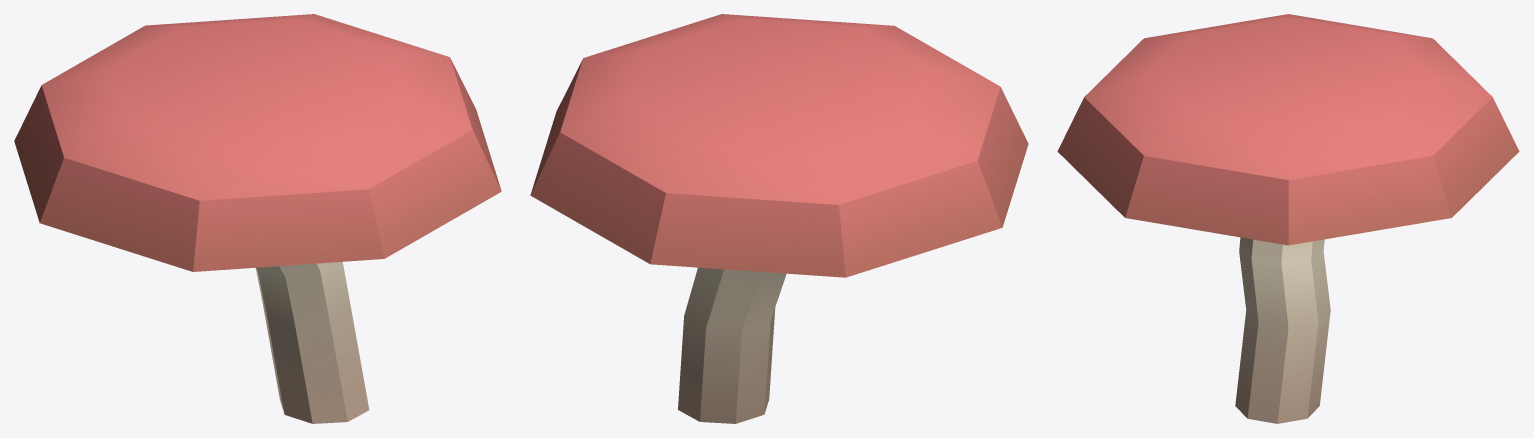
3 renders of one model, left to right at view 1: azimuth 30°, elevation 25°; view 2: azimuth 150°, elevation 25°; view 3: azimuth 270°, elevation 25°, orthographic. The views are drawn at different scales.
Parts seen in each view (by area): view 1: Cylinder_1; view 2: Cylinder_1; view 3: Cylinder_1.
Boxes of the visible parts, x1,y1,x2,y2 form: Cylinder_1: (14,14,501,423); Cylinder_1: (530,14,1028,423); Cylinder_1: (1057,14,1519,423).
Size of the model in its own units: 181 by 133 by 182.
